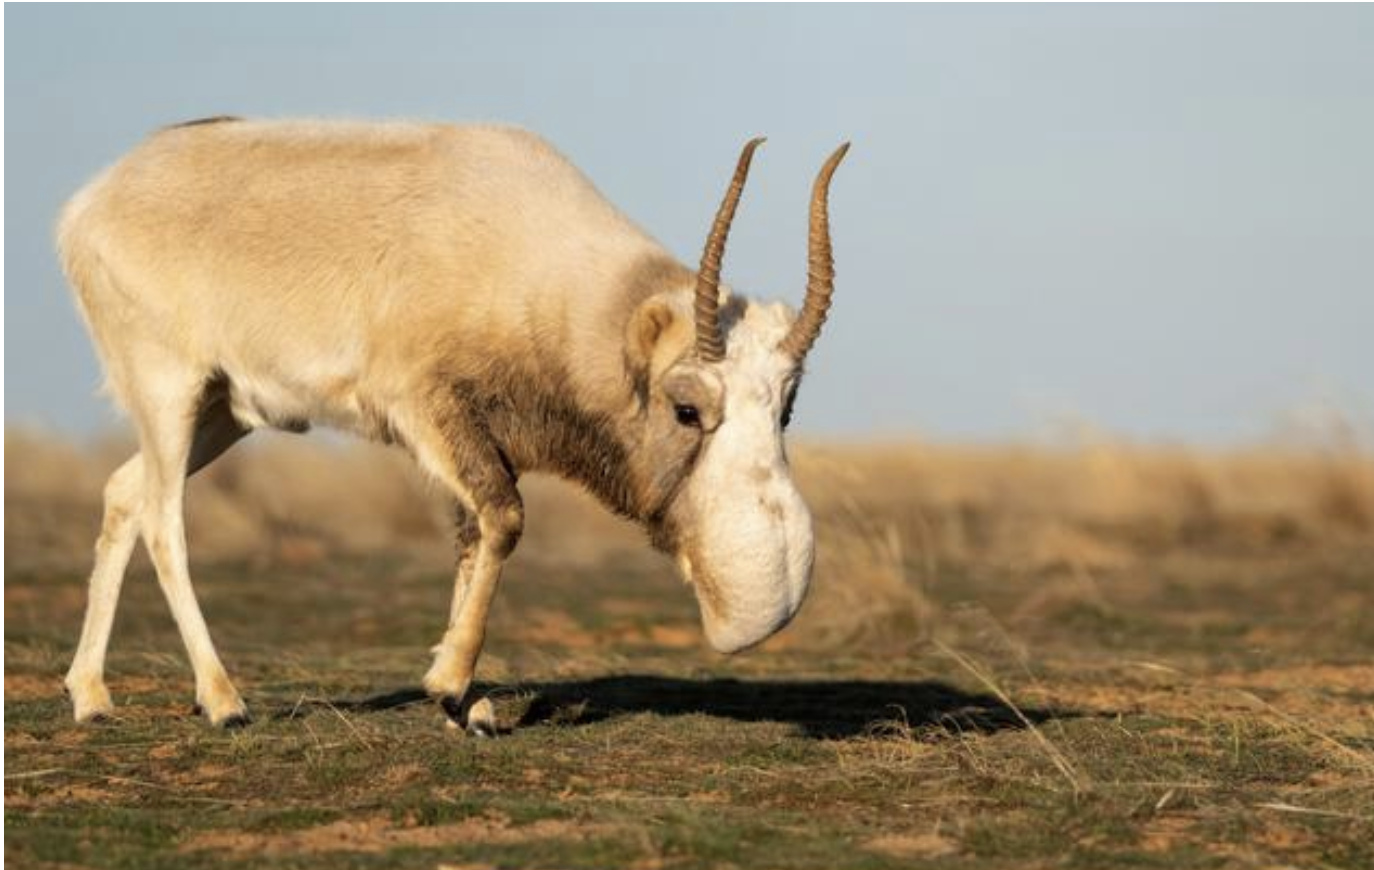saiga: (40, 99, 850, 723)
